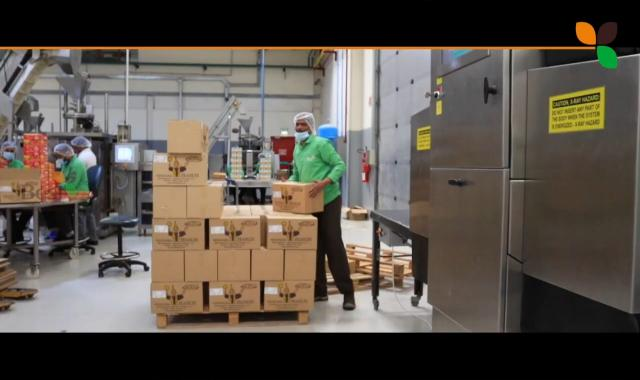hairnet: (293, 111, 315, 137), (72, 132, 94, 154), (53, 142, 75, 163), (1, 140, 16, 158)
